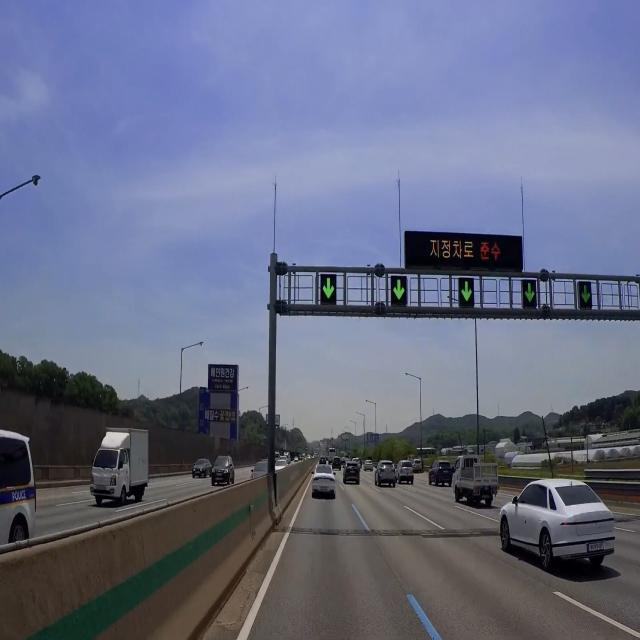car: (583, 535, 613, 556), (90, 483, 108, 495), (317, 481, 331, 496), (213, 470, 227, 482)
